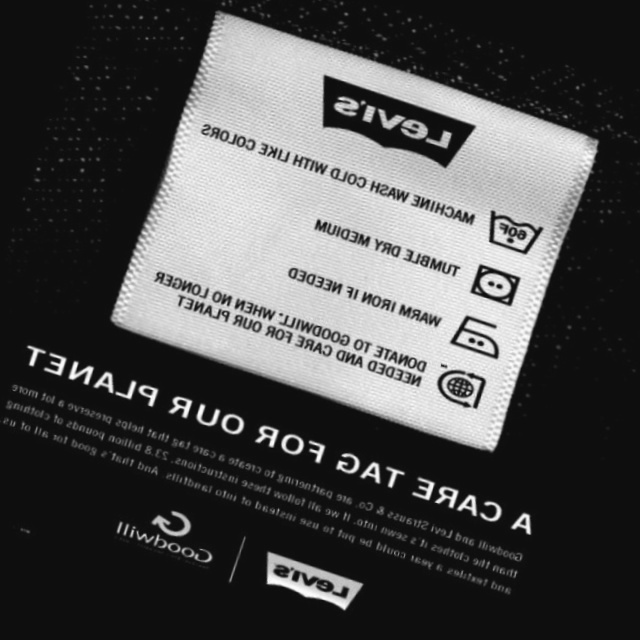30C: (475, 199, 550, 264)
iron_medium: (442, 305, 514, 367)
tumble_dry_medium: (461, 258, 529, 314)
